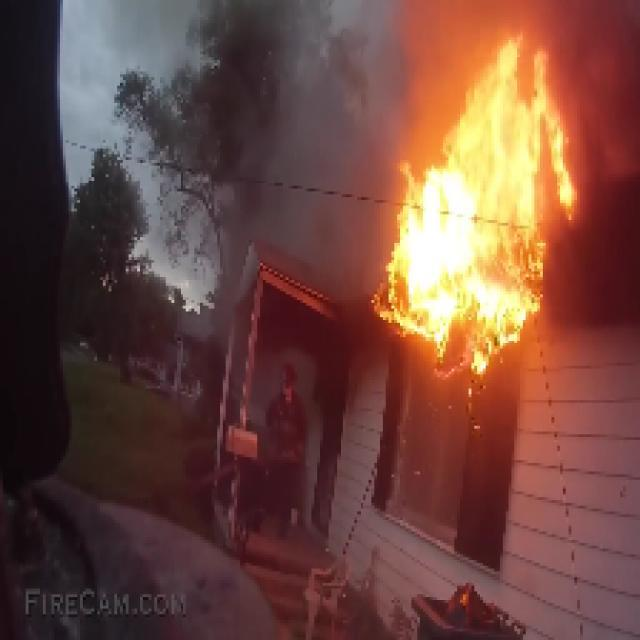Fire: (368, 34, 588, 380)
Smoke: (237, 9, 640, 352)
